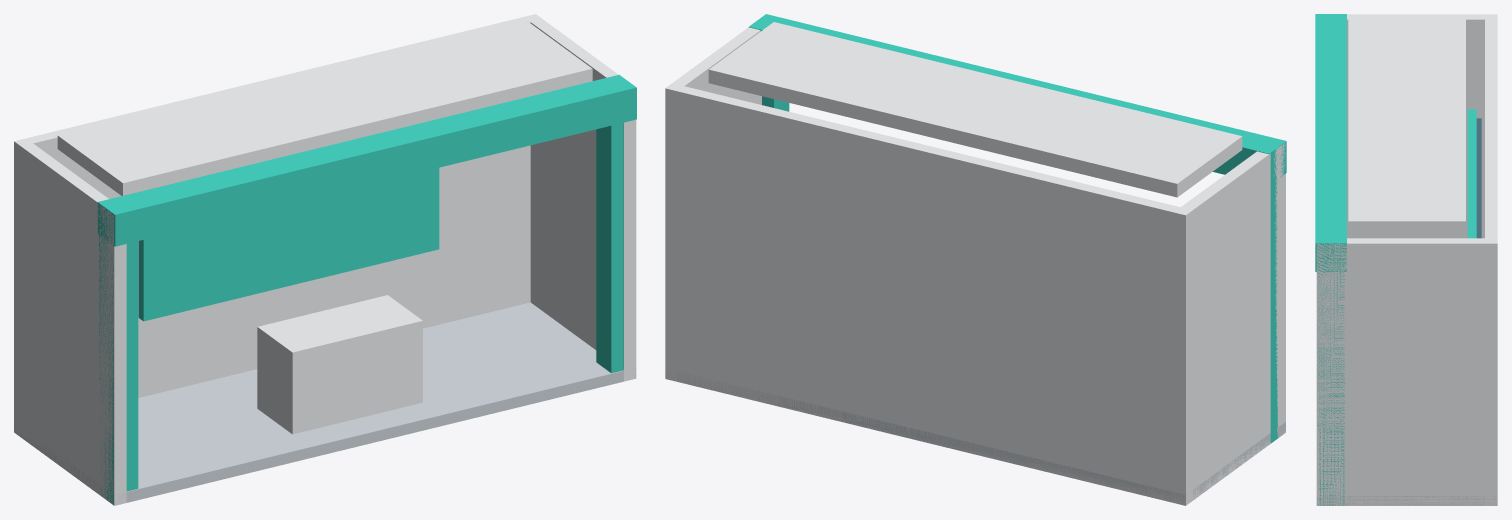
The picture shows the model from 3 angles, left to right: view 1: azimuth 30°, elevation 25°; view 2: azimuth 150°, elevation 25°; view 3: azimuth 270°, elevation 25°; orthographic projection. The views are drawn at different scales.
Parts seen in each view (by area): view 1: Exhibition Booth Concept; view 2: Exhibition Booth Concept; view 3: Exhibition Booth Concept.
Boxes of the visible parts, box(x1,y1,x2,y2) form: Exhibition Booth Concept: box(14, 14, 636, 505); Exhibition Booth Concept: box(665, 14, 1286, 505); Exhibition Booth Concept: box(1315, 14, 1497, 505).
Size of the model in its own units: 6 by 3.34 by 2.01.
